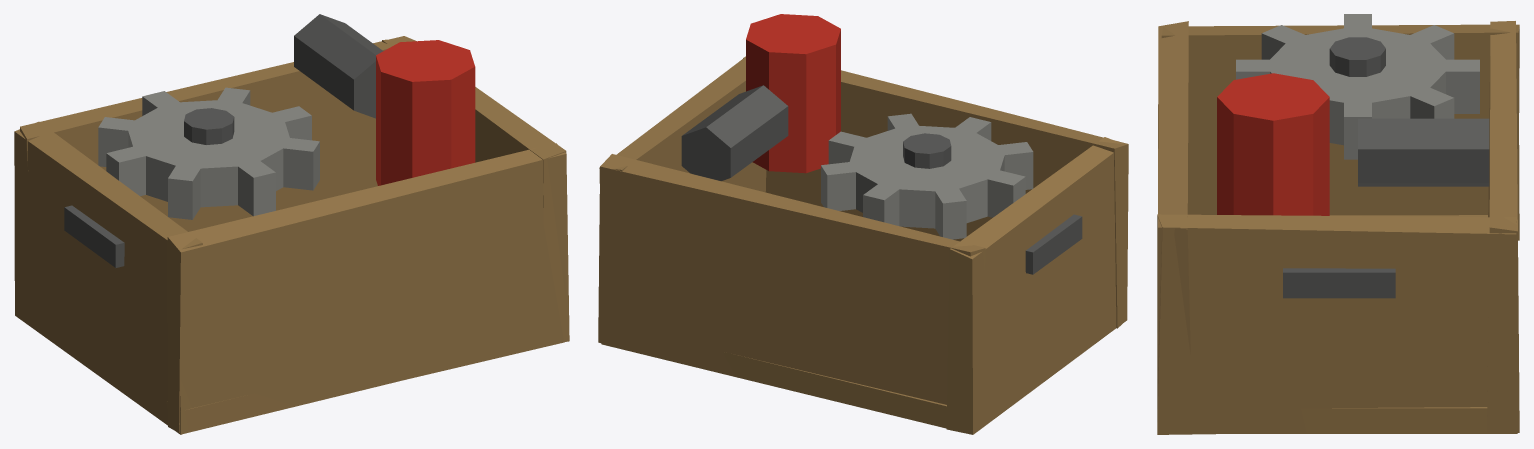
File: good_parts.glb
3 views of the same model, side by side, from view 1: azimuth 30°, elevation 25°; view 2: azimuth 150°, elevation 25°; view 3: azimuth 270°, elevation 25° (orthographic). The views are drawn at different scales.
Visible parts, largest first — view 1: good_parts; view 2: good_parts; view 3: good_parts.
Part boxes in pixels (<box>): good_parts: <box>14,14,569,434</box>; good_parts: <box>598,14,1128,434</box>; good_parts: <box>1157,14,1519,434</box>.
Size of the model in its own units: 0.544 by 0.34 by 0.3863.
